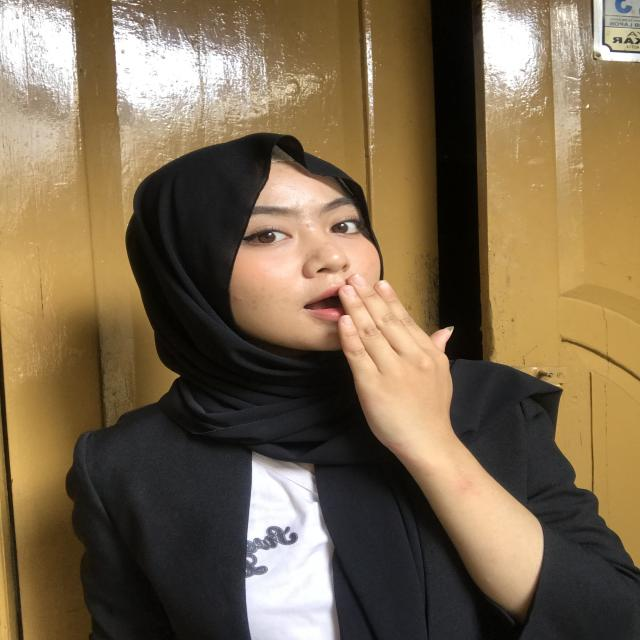ngantuk: (279, 278, 466, 485)
